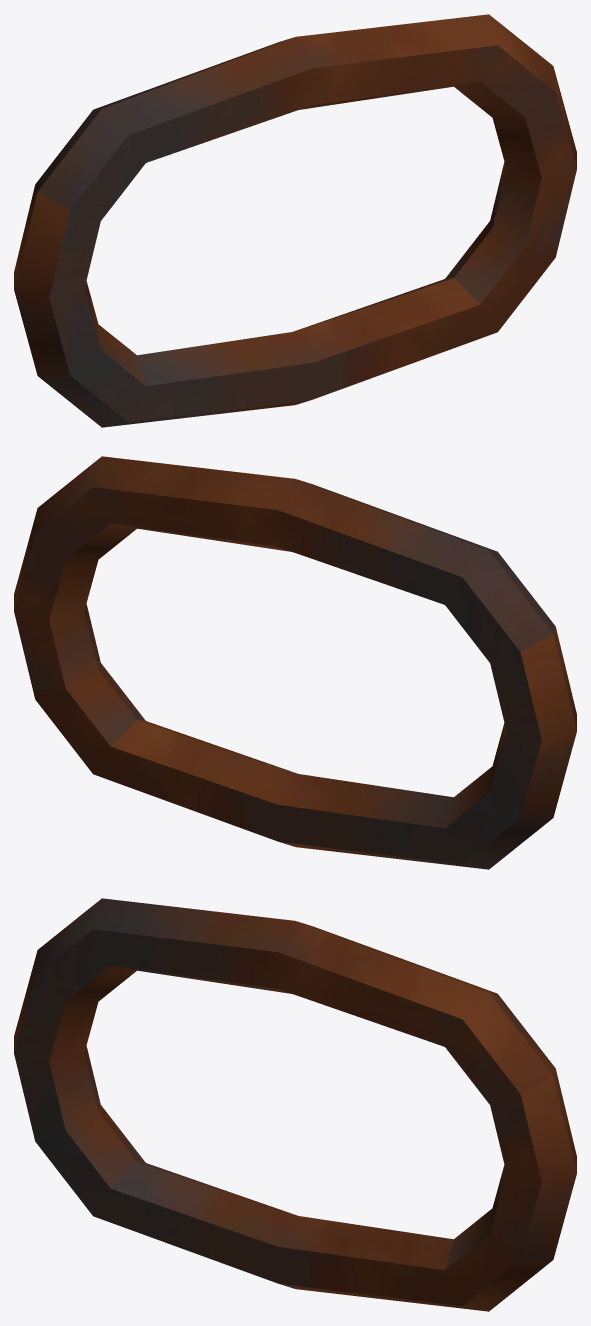
The model's file is Chain_Link.glb.
The picture shows the model from 3 angles, top to bottom: view 1: azimuth 30°, elevation 25°; view 2: azimuth 150°, elevation 25°; view 3: azimuth 330°, elevation 25°; orthographic projection.
Visible parts, largest first — view 1: Chain_Link; view 2: Chain_Link; view 3: Chain_Link.
Part boxes in pixels (box(x1,y1,x2,y2)): Chain_Link: box(14, 14, 576, 427); Chain_Link: box(14, 456, 576, 869); Chain_Link: box(14, 898, 576, 1311).
Size of the model in its own units: 0.16 by 0.1 by 0.0173.
Materials: 1 (1 with a texture image).
